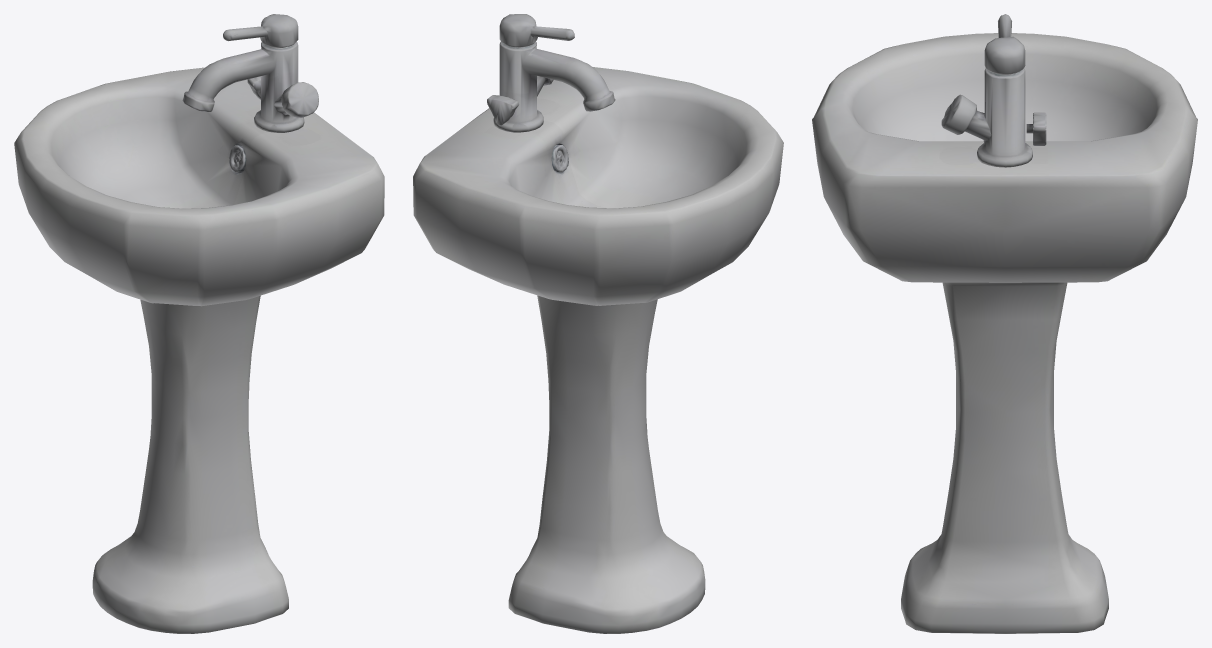
Rendered from selected.glb.
3 views of the same model, side by side, from view 1: azimuth 30°, elevation 25°; view 2: azimuth 150°, elevation 25°; view 3: azimuth 270°, elevation 25° (orthographic). The views are drawn at different scales.
Parts seen in each view (by area): view 1: tripo_node_c43095ae-353d-4741-8cc0-36581e3fa97b; view 2: tripo_node_c43095ae-353d-4741-8cc0-36581e3fa97b; view 3: tripo_node_c43095ae-353d-4741-8cc0-36581e3fa97b.
Boxes of the visible parts, left/top/right/bottom form: tripo_node_c43095ae-353d-4741-8cc0-36581e3fa97b: left=14, top=14, right=384, bottom=633; tripo_node_c43095ae-353d-4741-8cc0-36581e3fa97b: left=413, top=14, right=783, bottom=633; tripo_node_c43095ae-353d-4741-8cc0-36581e3fa97b: left=812, top=14, right=1197, bottom=633.
Bounding box in the file's own units: 0.5176 × 0.998 × 0.5762.
Materials: 1 (1 with a texture image).
